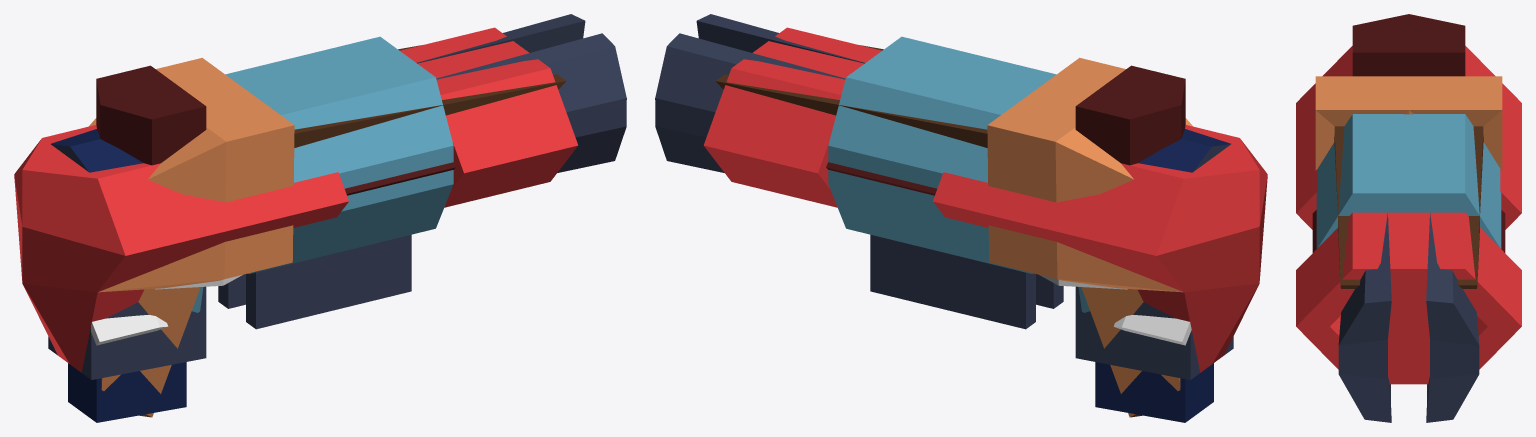
Rendered from weapons.fbx.
The picture shows the model from 3 angles, left to right: view 1: azimuth 30°, elevation 25°; view 2: azimuth 150°, elevation 25°; view 3: azimuth 270°, elevation 25°; orthographic projection.
Parts seen in each view (by area): view 1: rocketlauncher, railgun, shotgun, pistol, rocket; view 2: rocketlauncher, railgun, shotgun, pistol, rocket; view 3: rocketlauncher, railgun, shotgun.
Part boxes in pixels (bbox=[...]): rocketlauncher: bbox=[14, 27, 578, 372]; railgun: bbox=[192, 14, 626, 329]; shotgun: bbox=[89, 45, 566, 417]; pistol: bbox=[48, 129, 206, 422]; rocket: bbox=[91, 315, 168, 345]; rocketlauncher: bbox=[703, 27, 1267, 372]; railgun: bbox=[655, 14, 1089, 329]; shotgun: bbox=[715, 45, 1192, 417]; pistol: bbox=[1075, 129, 1233, 422]; rocket: bbox=[1113, 315, 1191, 345]; rocketlauncher: bbox=[1296, 14, 1521, 384]; railgun: bbox=[1316, 114, 1501, 422]; shotgun: bbox=[1315, 76, 1502, 288].
Size of the model in its own units: 178 by 282 by 526.
